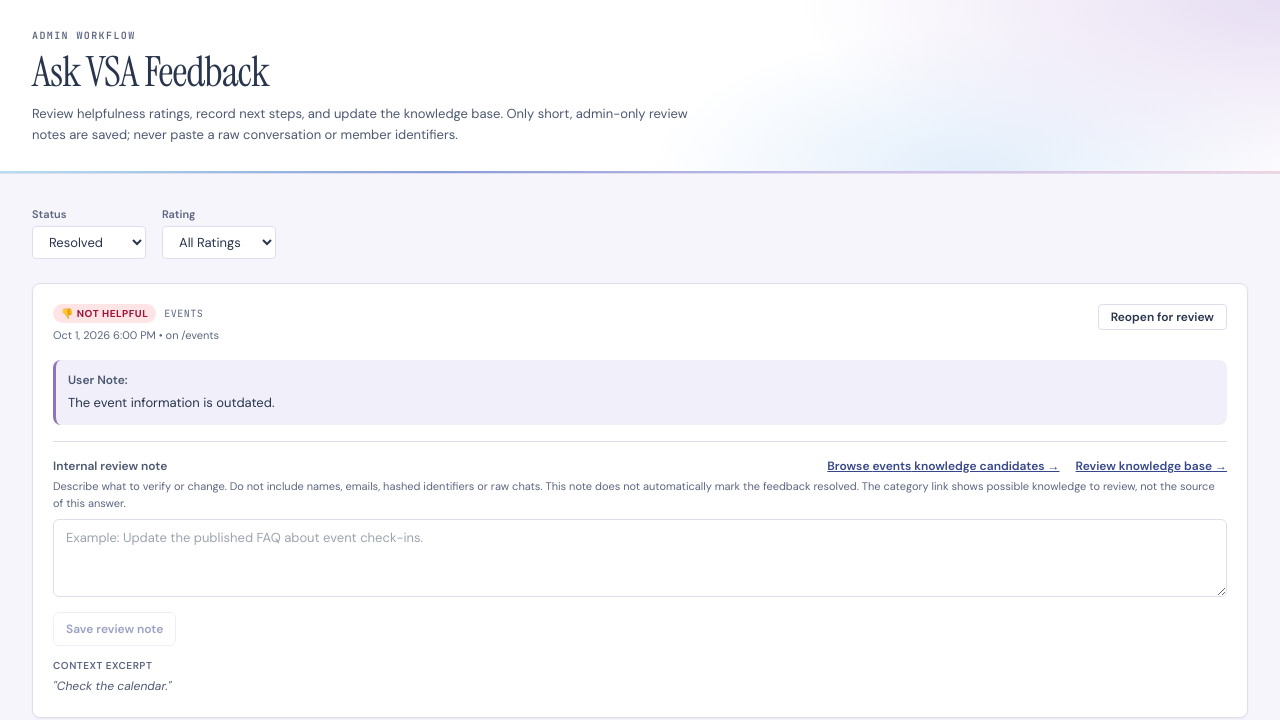
Scenario: Ask VSA feedback: private review notes (#237) › removes a reopened item from the resolved-only inbox
Click the button "Reopen for review" at (1162, 317), box [1098, 304, 1227, 330]
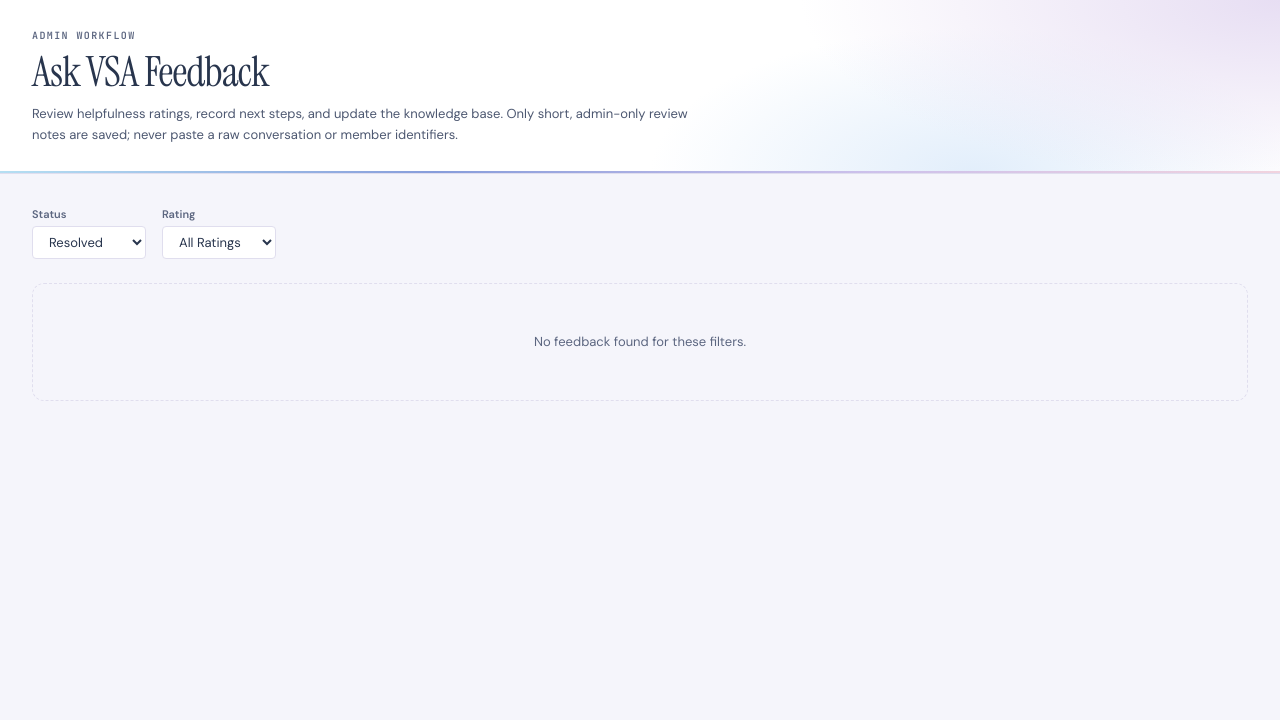
Check: the text "No feedback found for these filters." is shown, box [534, 333, 746, 350]
